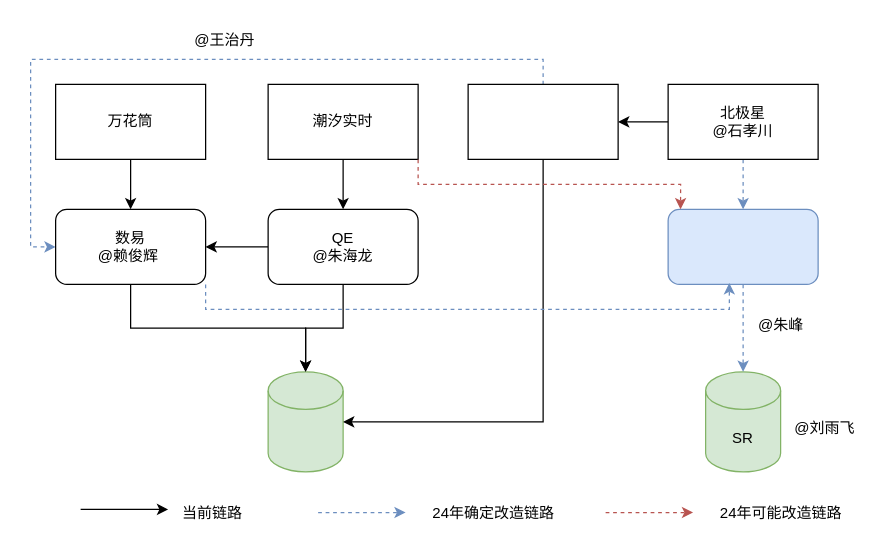
Image size: 890x553. Some labels were removed from this diagram. The centre of each missing label's shape, as x and y in pixels:
"Druid" goes at (305,421).
"woater" goes at (542,121).
"指标服务化 @江国荐" goes at (742,246).
